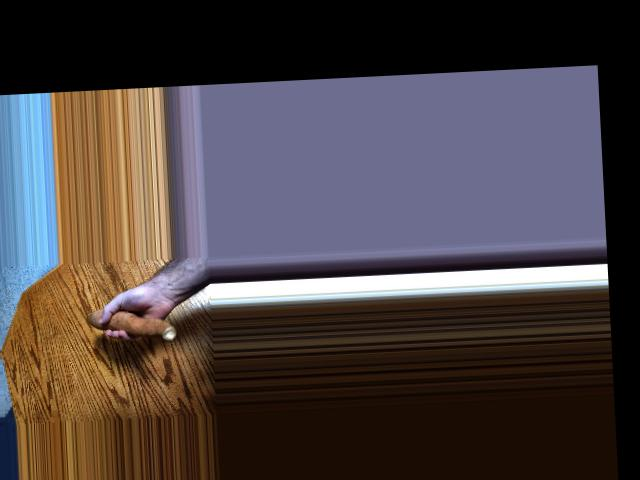sweet_potato: (95, 300, 183, 340)
